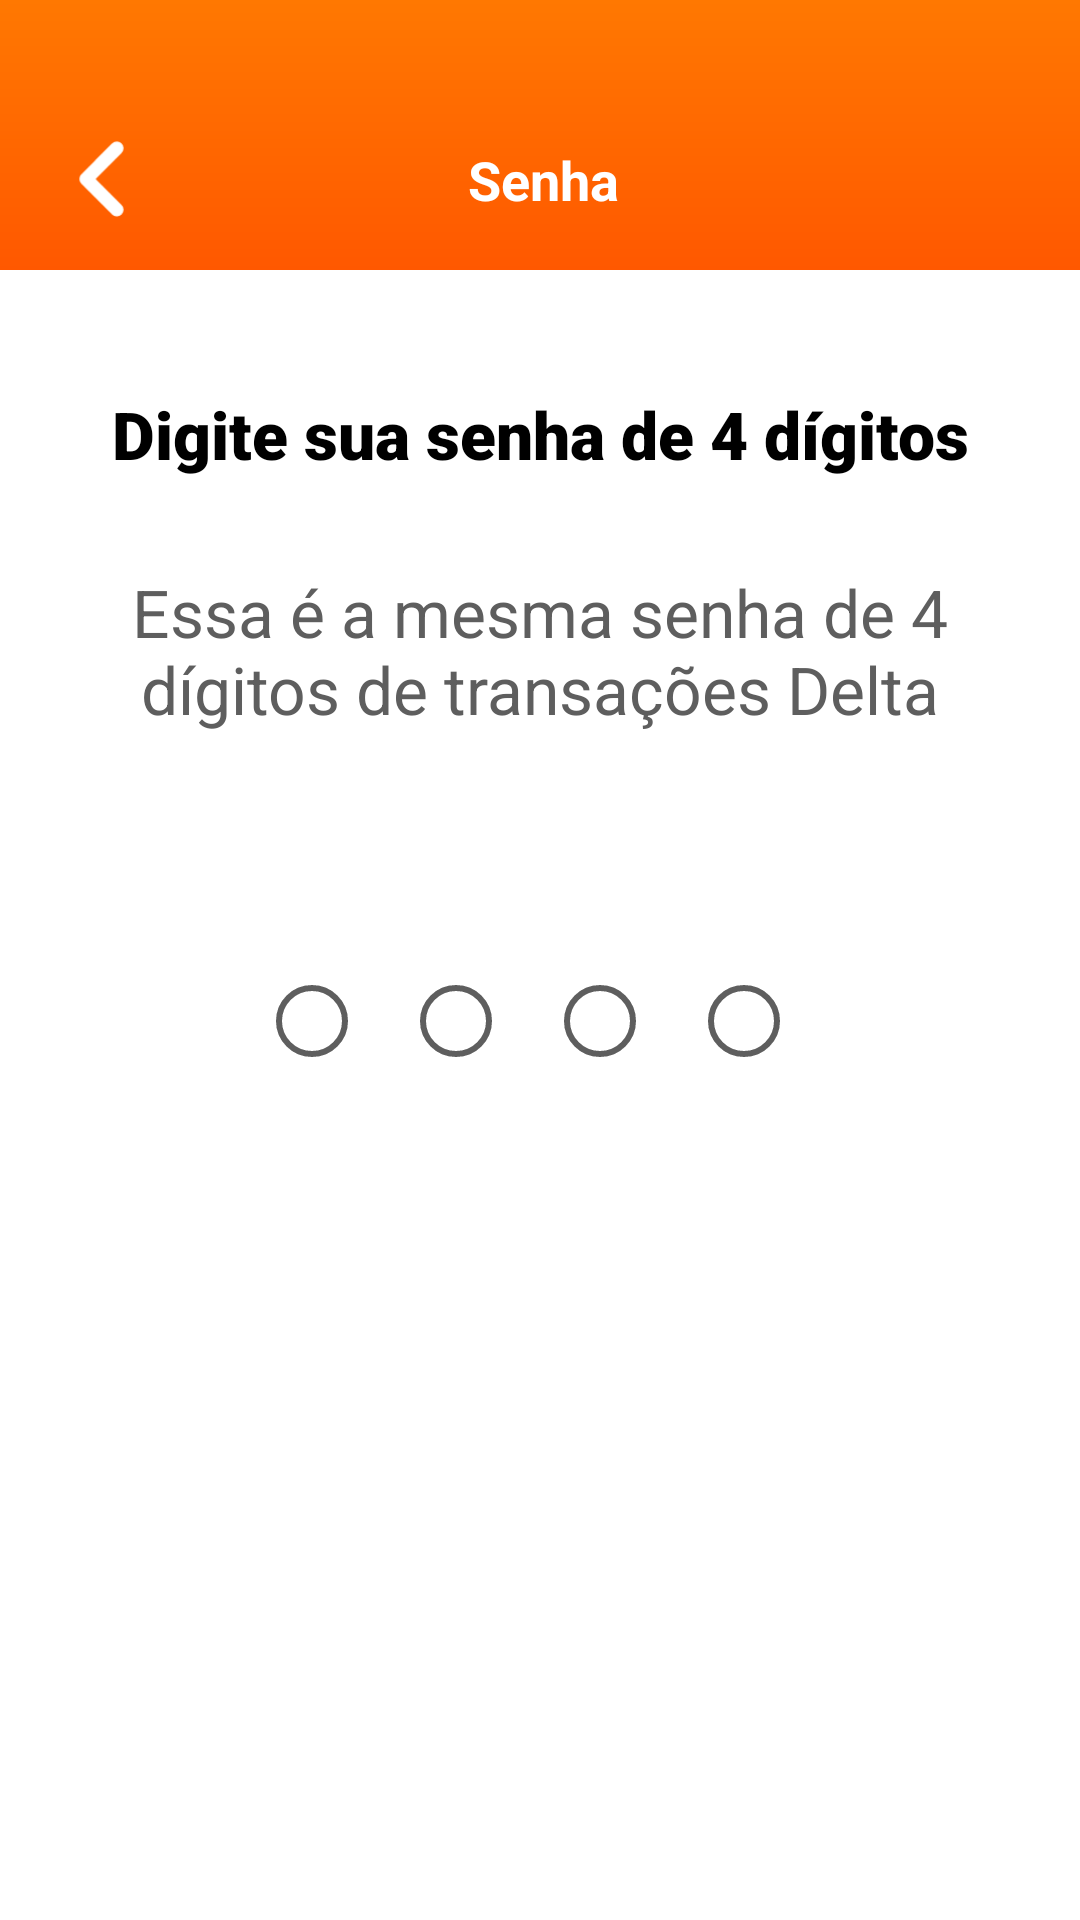

Icon bounding boxes for this 1080 × 1920 phone screenshot, format [x1=x1, y1=y1, x2=x2, y2=y2]:
Seta de voltar: [x1=79, y1=141, x2=124, y2=217]
